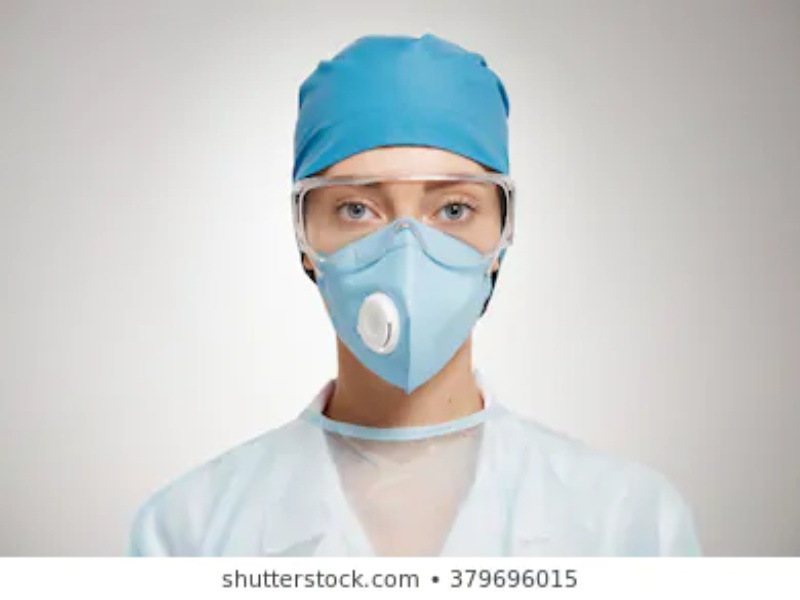ManaoArotava: (280, 39, 522, 444)
